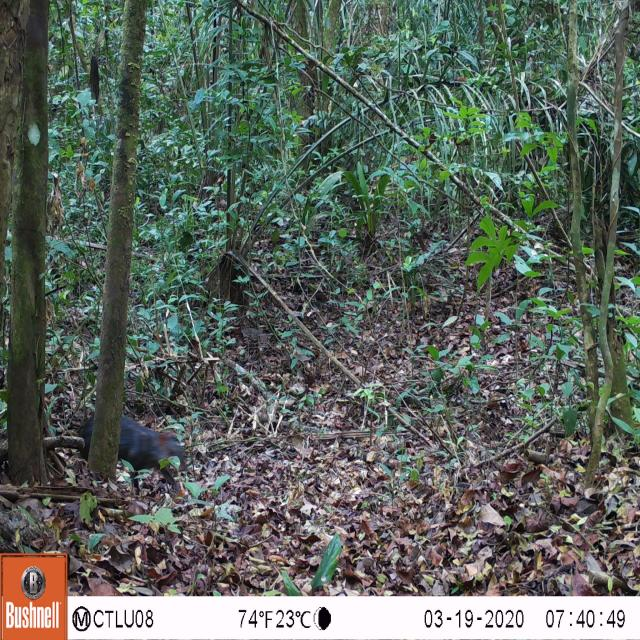Black Agouti: (72, 404, 196, 506)
